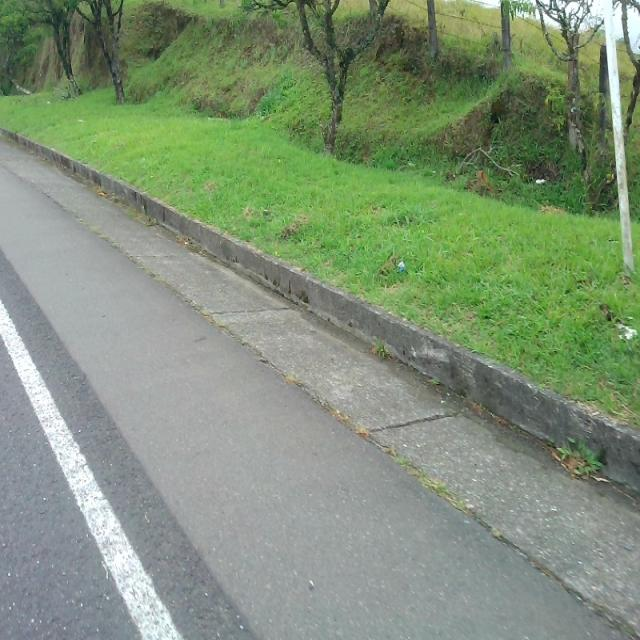DITCH: (2, 5, 638, 638), (1, 128, 639, 638), (1, 140, 639, 638)
